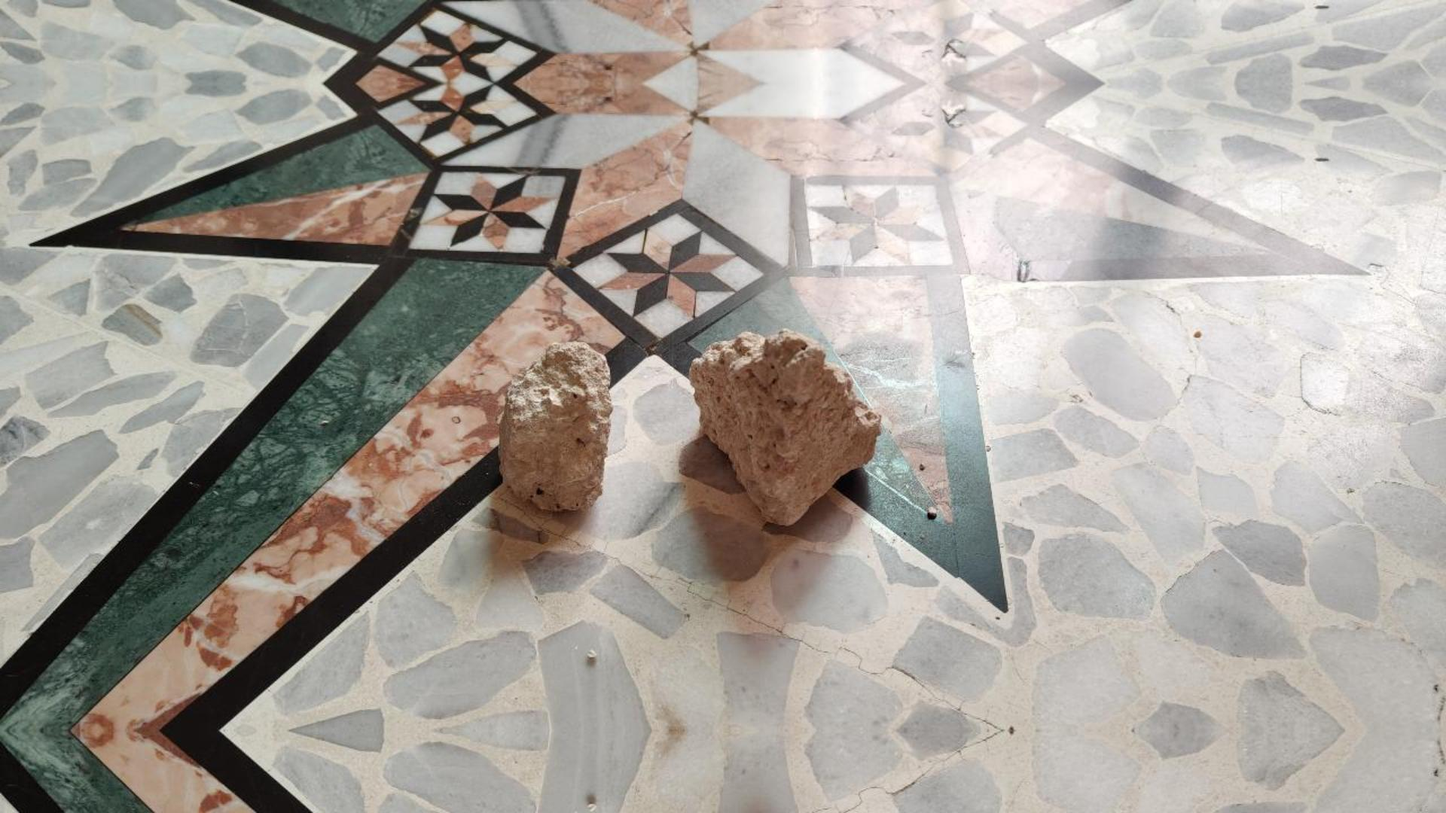rock: (689, 330, 880, 525), (499, 341, 611, 510)
